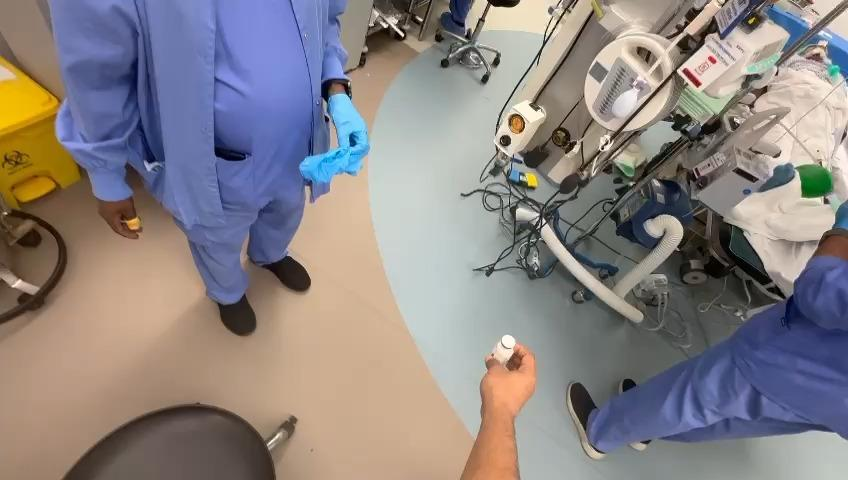augmentin: (492, 335, 517, 364)
